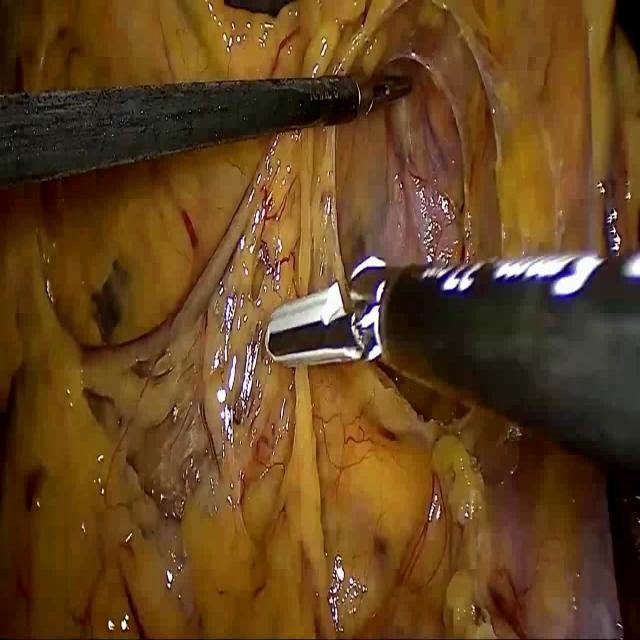surgical-tool: (264, 253, 640, 473), (0, 75, 411, 188)
